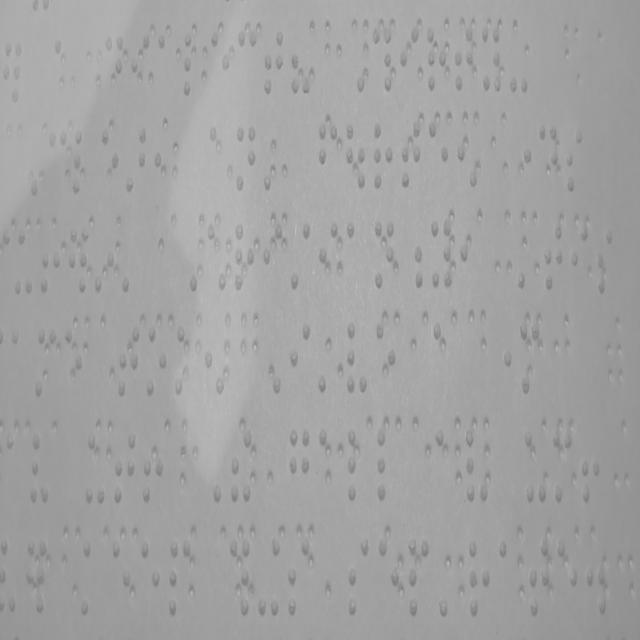braiile: (112, 314, 142, 408), (372, 416, 400, 516), (465, 530, 493, 627), (344, 530, 372, 624), (526, 527, 552, 628), (462, 420, 490, 512), (166, 534, 194, 626), (342, 418, 370, 509), (372, 312, 400, 402), (344, 310, 371, 403), (430, 309, 457, 402), (593, 214, 620, 306), (396, 111, 424, 199), (81, 427, 108, 517), (522, 420, 548, 513), (554, 534, 580, 627), (428, 210, 456, 296), (377, 530, 402, 626), (406, 526, 431, 622), (111, 426, 138, 514), (286, 528, 312, 618), (288, 420, 312, 516), (62, 319, 87, 411), (315, 422, 340, 514), (27, 424, 52, 514), (433, 420, 458, 510), (233, 22, 260, 105), (538, 214, 565, 296), (370, 114, 395, 201), (550, 420, 574, 510), (496, 534, 520, 624), (128, 27, 154, 110), (316, 114, 341, 200), (426, 114, 452, 196), (452, 16, 476, 104), (78, 532, 102, 620), (478, 22, 504, 103), (289, 313, 314, 397), (144, 317, 168, 404), (33, 320, 59, 400), (138, 534, 162, 620), (260, 24, 286, 102), (109, 536, 132, 624), (209, 118, 233, 202), (372, 214, 396, 297), (518, 312, 540, 402), (261, 218, 285, 300), (316, 214, 340, 294), (568, 213, 590, 300), (98, 123, 121, 206), (232, 217, 256, 295), (102, 29, 125, 110), (70, 125, 95, 199), (154, 29, 178, 106), (426, 18, 448, 102), (182, 29, 206, 105), (398, 18, 420, 97), (209, 26, 232, 100), (14, 221, 35, 302), (45, 124, 67, 198), (344, 214, 364, 292), (234, 118, 248, 218)
